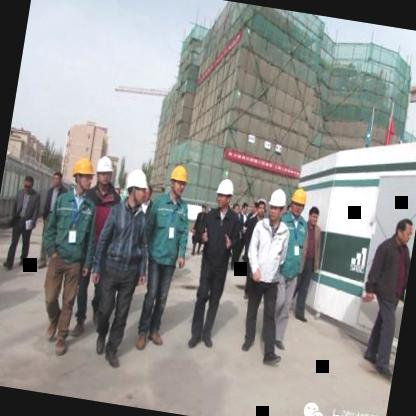head: (390, 210, 414, 248), (304, 204, 322, 230), (19, 170, 36, 196), (48, 169, 62, 189)
helmet: (64, 152, 97, 196), (120, 166, 150, 210), (164, 159, 192, 201), (89, 153, 116, 194), (264, 183, 288, 224), (212, 174, 237, 212), (283, 184, 308, 219)
